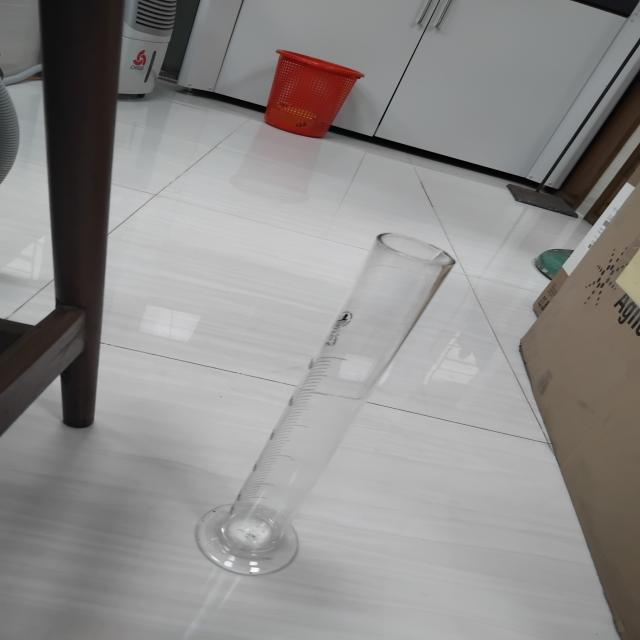Measuring_Cylinder: (173, 157, 477, 598)
